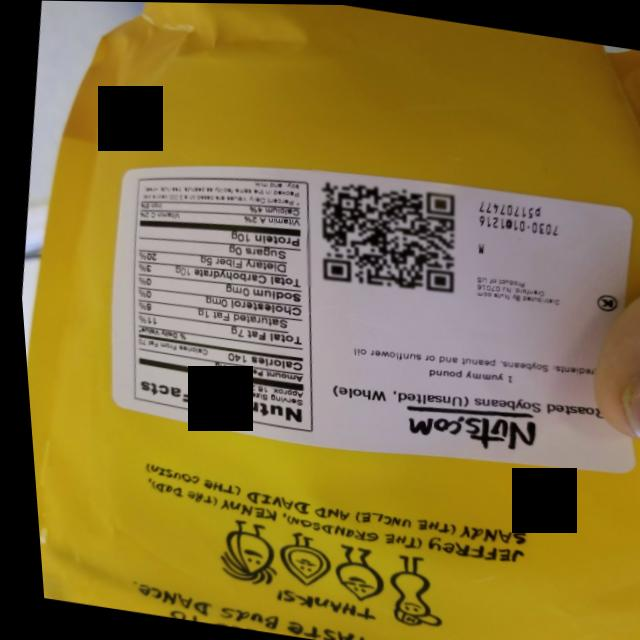QR_CODE: (293, 168, 480, 311)
